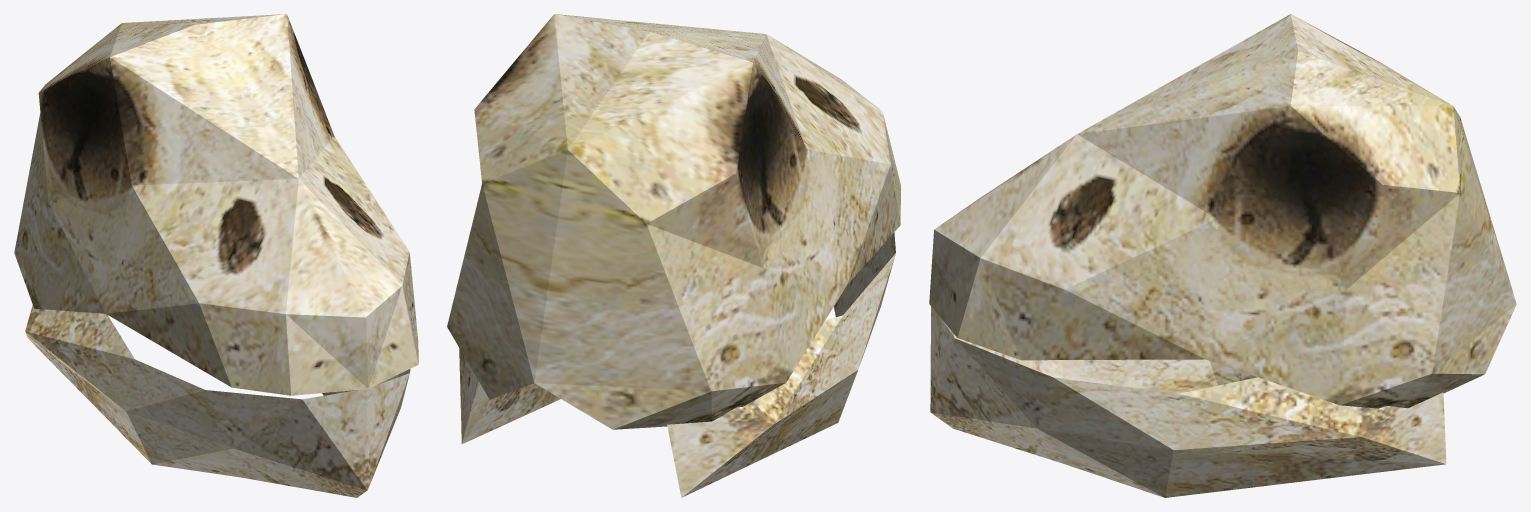
The model's file is poi_tato_skel_grtr_krayt_head_s01_l3.fbx.
The picture shows the model from 3 angles, left to right: view 1: azimuth 30°, elevation 25°; view 2: azimuth 150°, elevation 25°; view 3: azimuth 270°, elevation 25°; orthographic projection. The views are drawn at different scales.
Parts seen in each view (by area): view 1: mesh_node; view 2: mesh_node; view 3: mesh_node.
Part boxes in pixels (<box>): mesh_node: <box>14,14,418,497</box>; mesh_node: <box>447,14,900,497</box>; mesh_node: <box>929,14,1516,497</box>.
Size of the model in its own units: 1.25 by 1.56 by 2.12.
